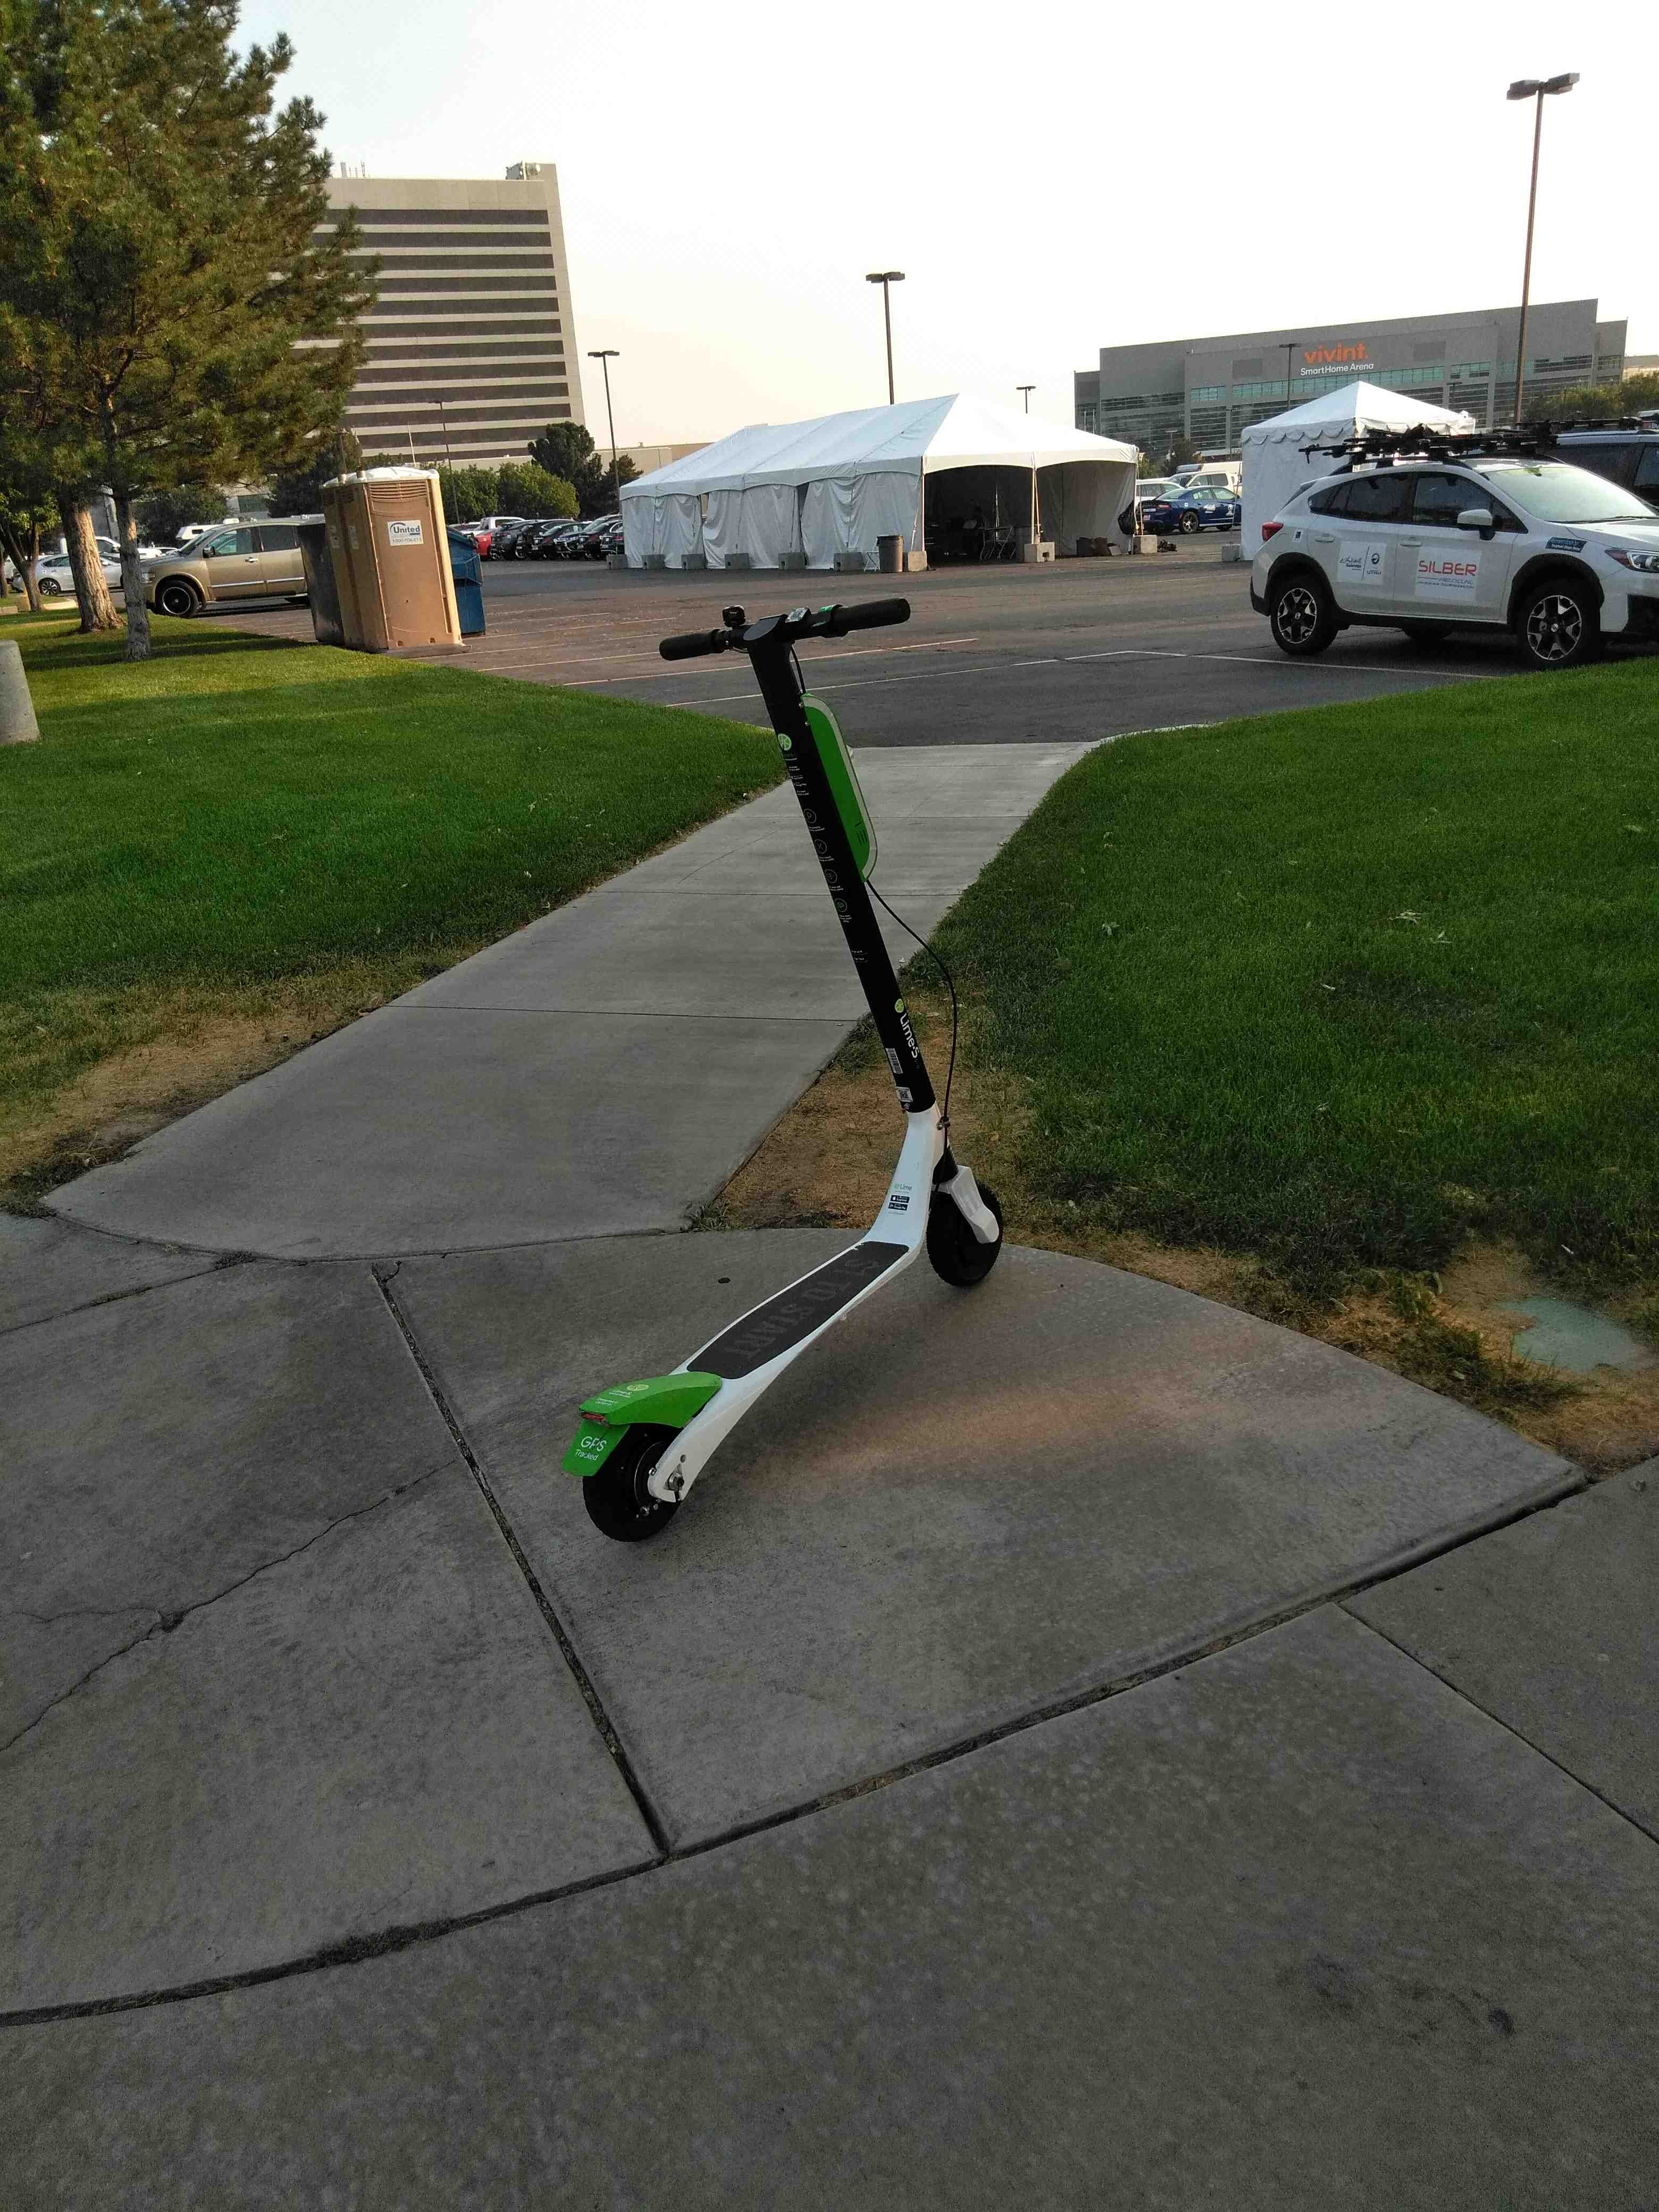scooter: (528, 566, 1039, 1564)
